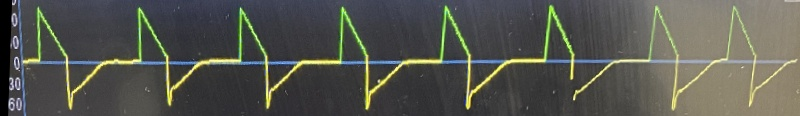normal_flow: (29, 0, 768, 116)
